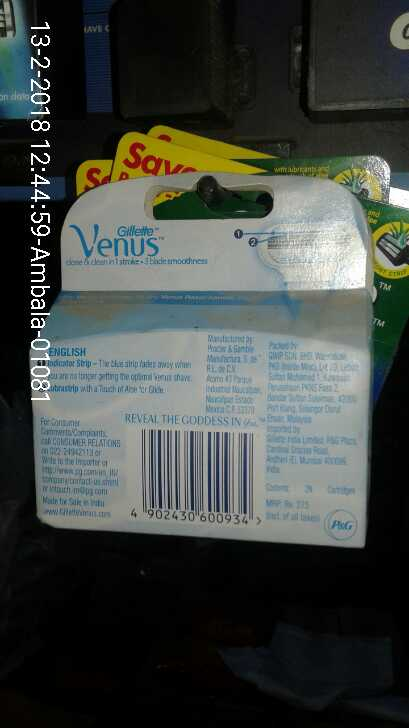venus: (26, 185, 370, 551)
